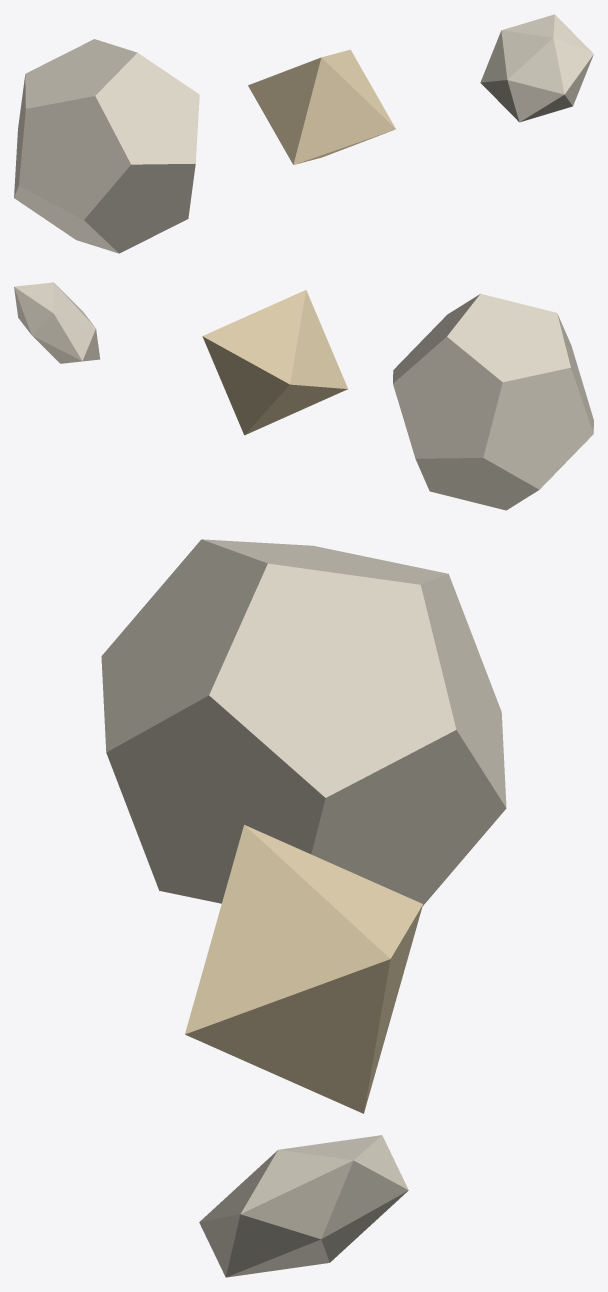
File: rocks.glb
The picture shows the model from 3 angles, top to bottom: view 1: azimuth 30°, elevation 25°; view 2: azimuth 150°, elevation 25°; view 3: azimuth 270°, elevation 25°; orthographic projection. The views are drawn at different scales.
Bounding box in the file's own units: 6.56 × 2.11 × 2.04.
